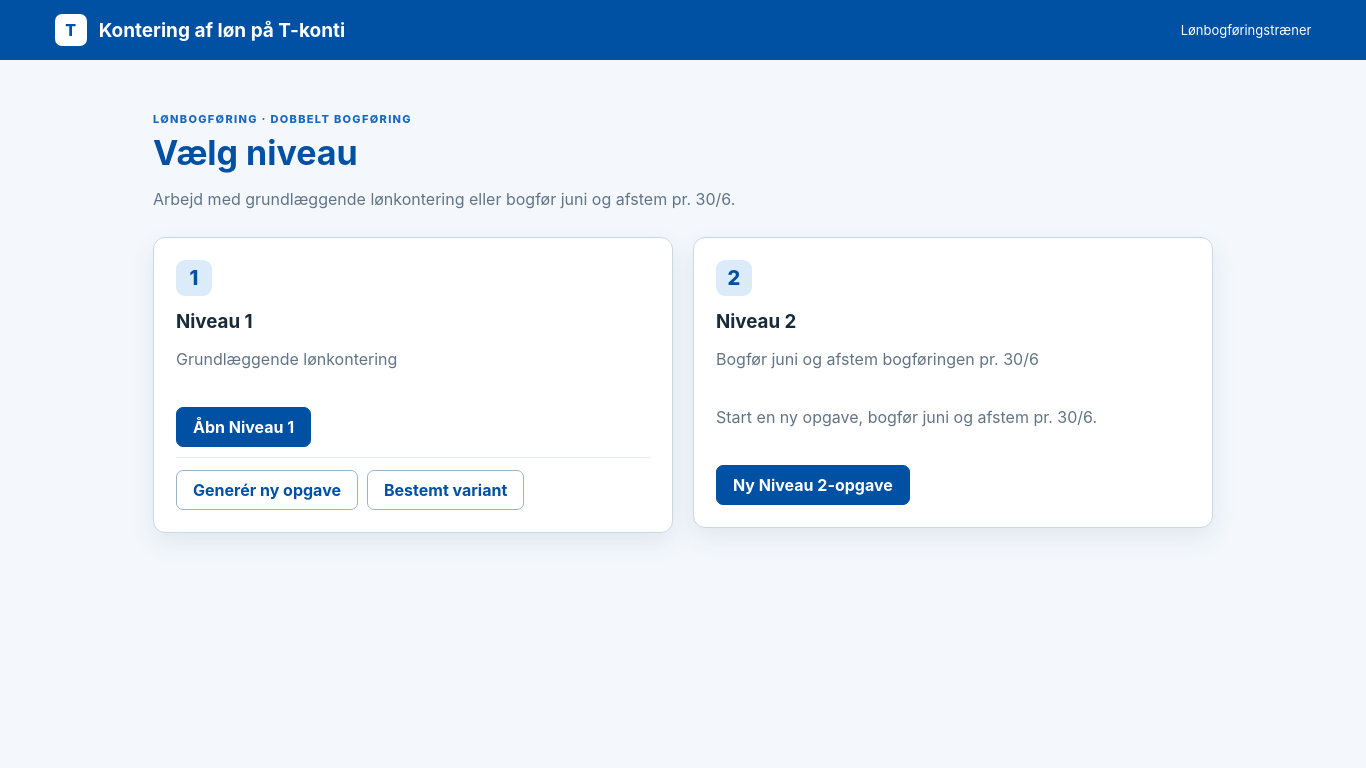
Scenario: J3C active V2.1 Home and lifecycle integration › rejects invalid variant input without generation
Click the button "Ny Niveau 2-opgave" at coordinates (813, 485), box [716,465,910,505]
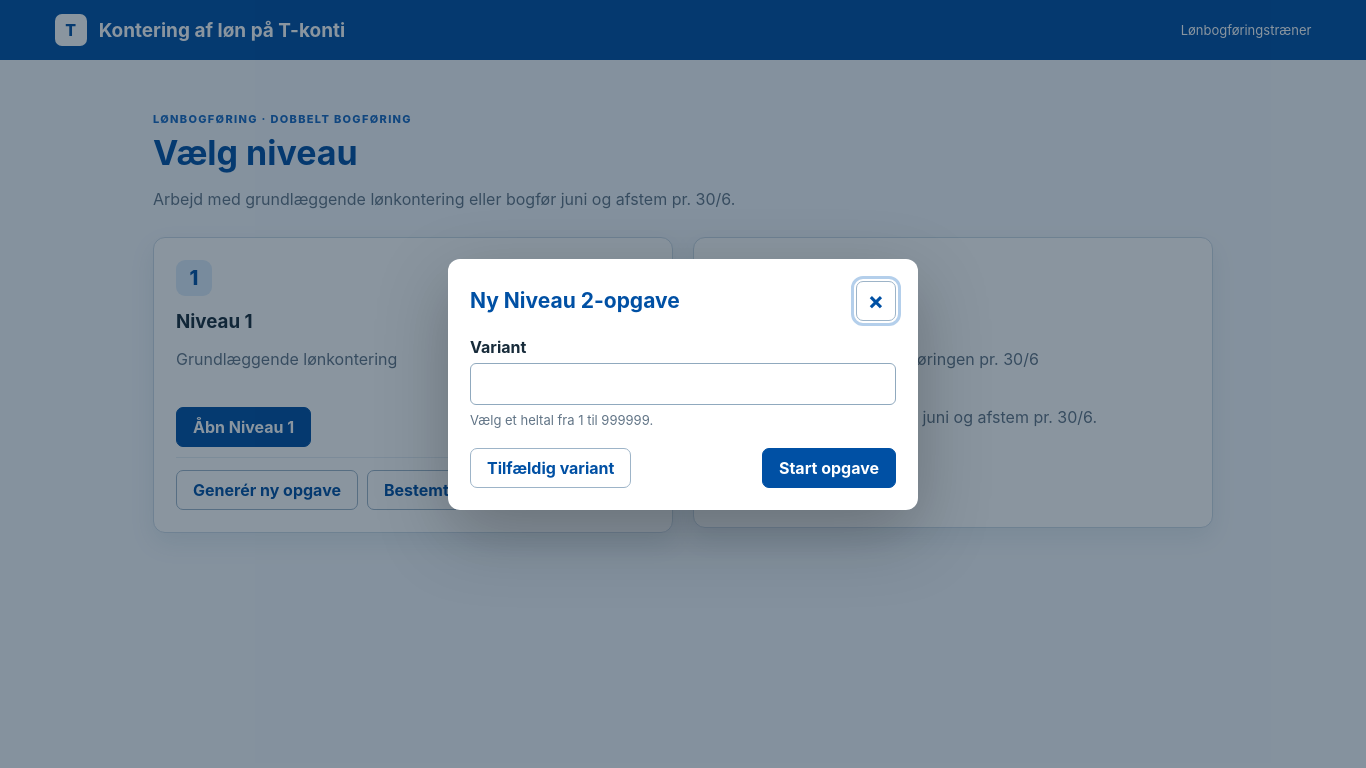
Type "1.5" into the field labelled "Variant" at coordinates (683, 384), box [470,362,896,404]
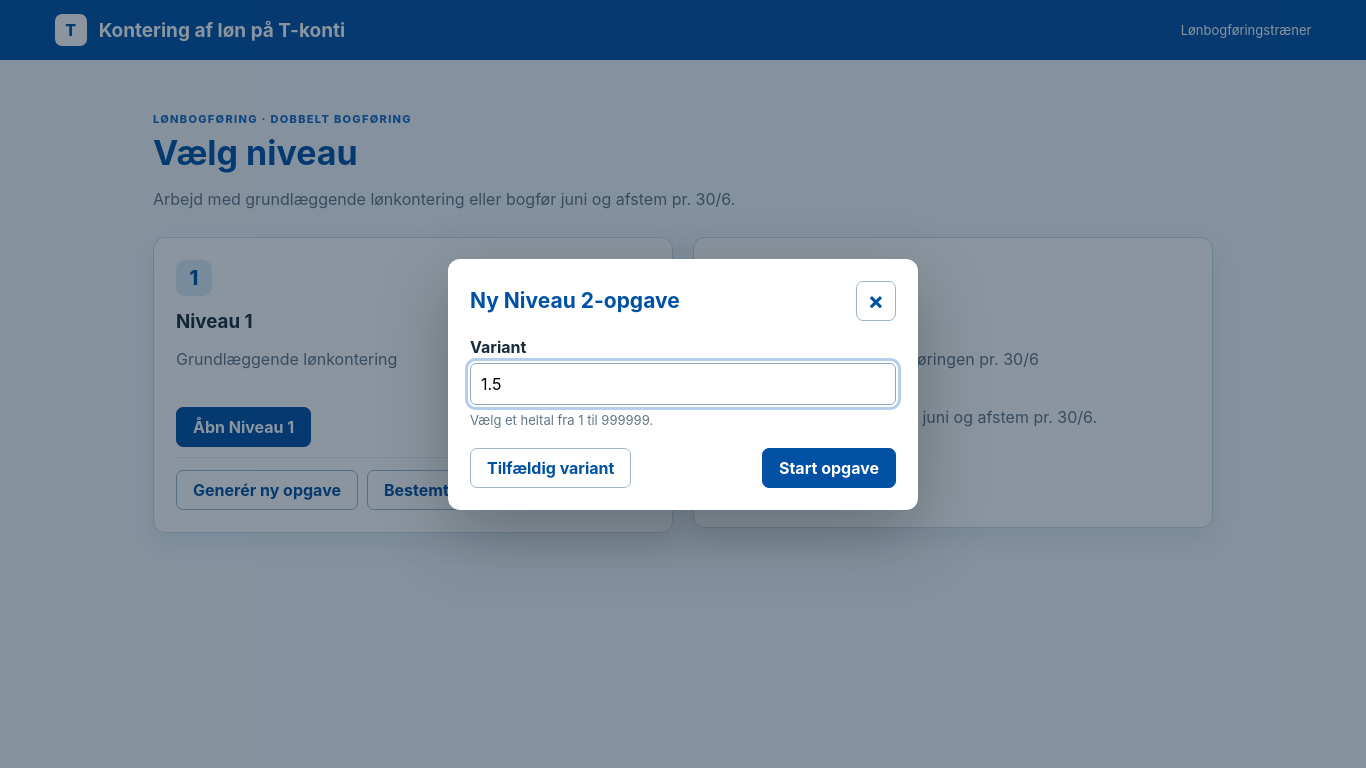
Click the button "Start opgave" at coordinates (829, 468), box [762,448,896,488]
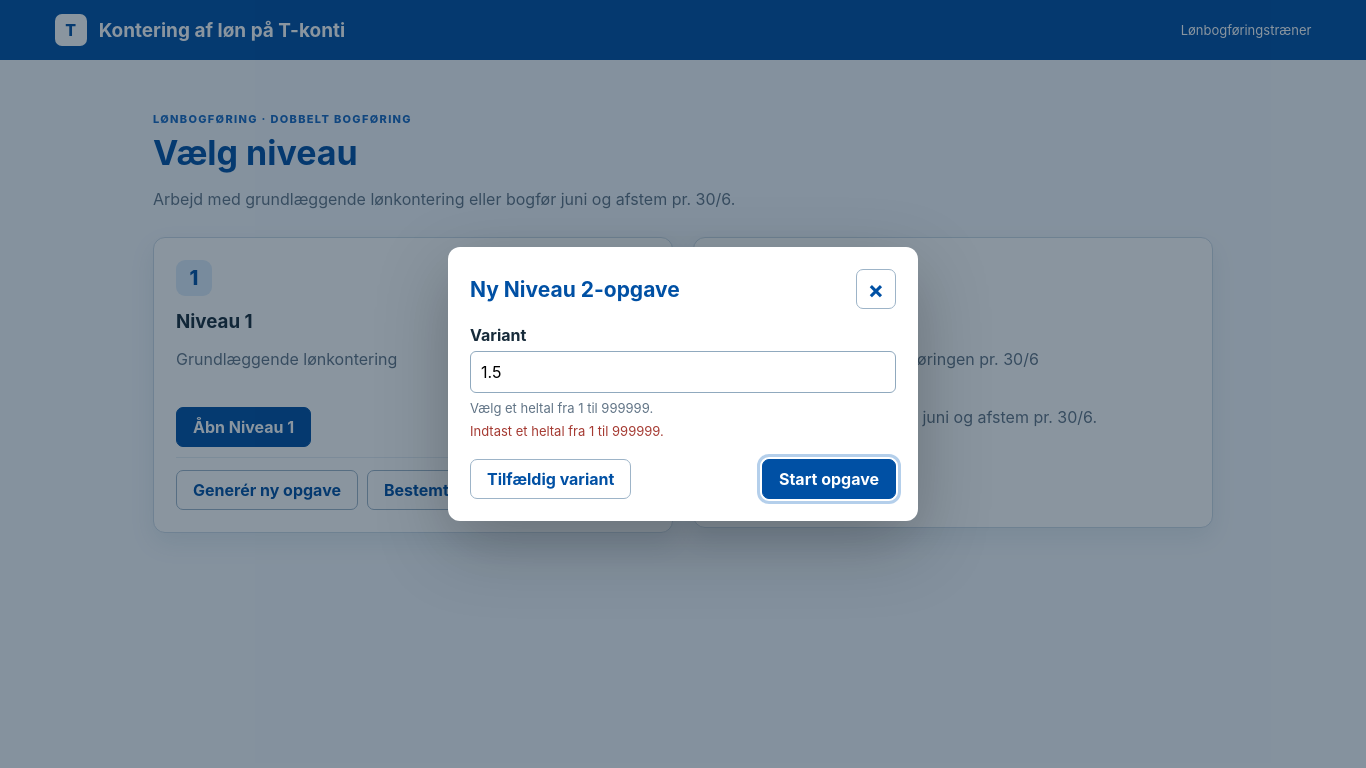
Expected: the message shows "heltal fra 1 til 999999", [470,423,664,439]
